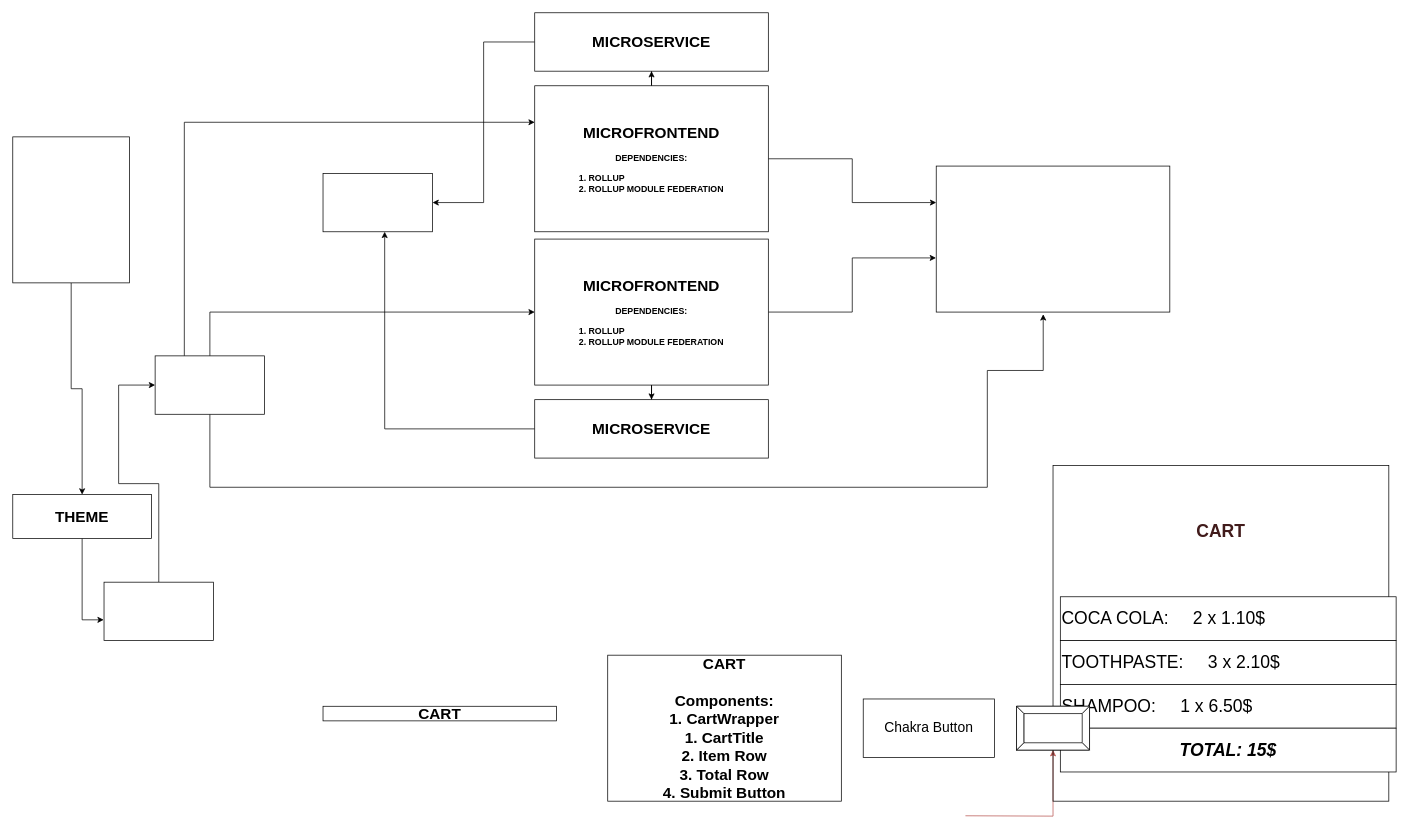
Some shapes in this 1409 by 835 pixel diagram are drawn without their labels. The centre of each missing label's shape, as x and y in pixels:
APP VITE + SSR: the point at 71,209
PAGE: the point at 209,384
QUEUE: the point at 377,202
ROUTE: the point at 158,611
Submit: the point at 1053,728
UI DEPENDENCIES: 1. ROLLUP 2. CHAKRA UI 3. EMOTION 4. REACT: the point at 1052,238
